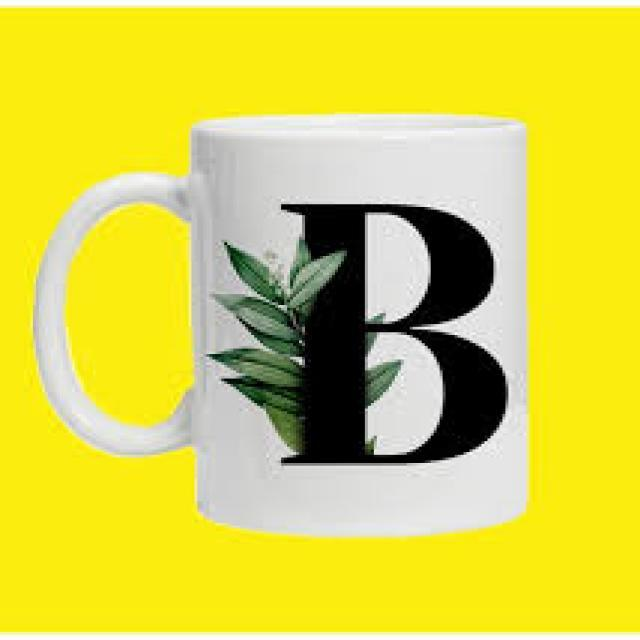taza: (30, 113, 529, 540)
